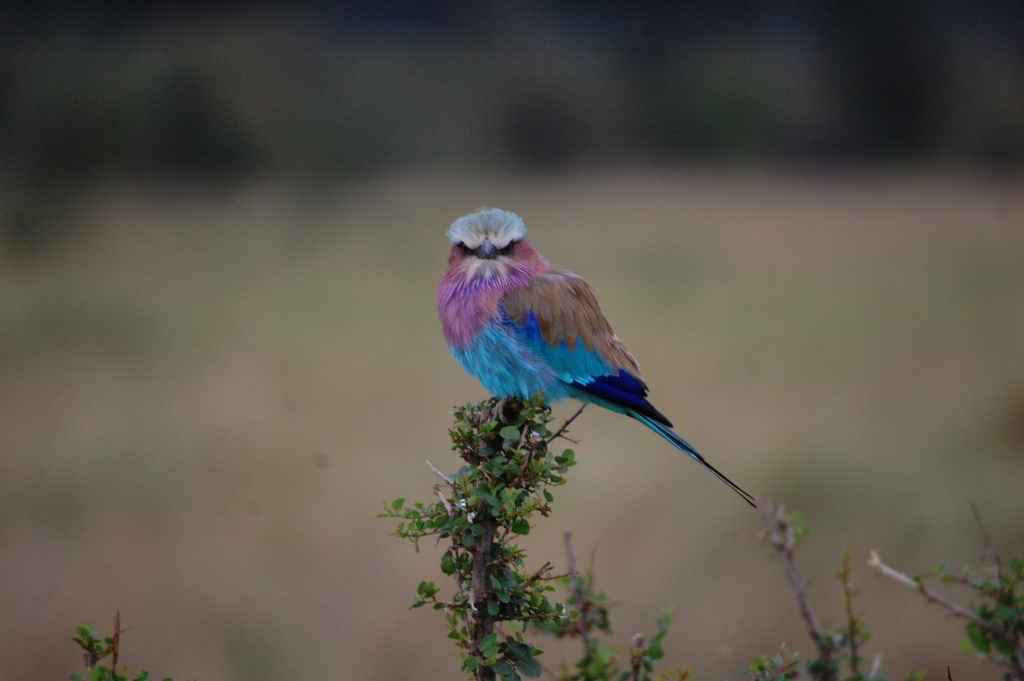Bird: (430, 205, 763, 522)
